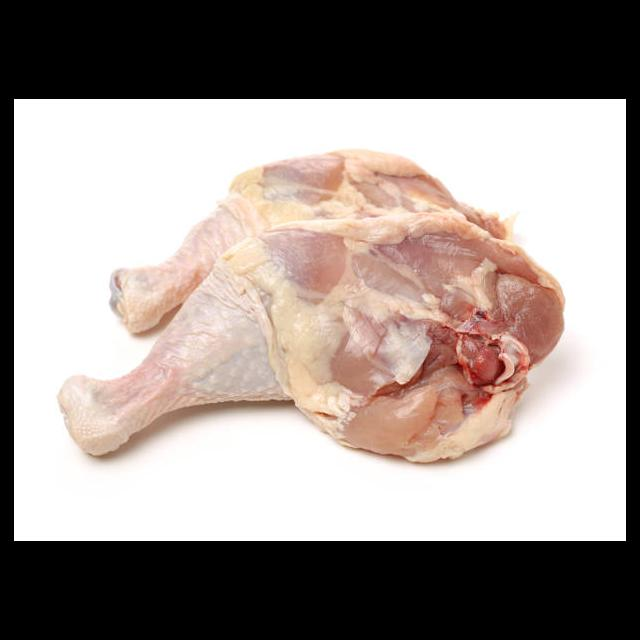chicken: (59, 209, 569, 467), (109, 149, 526, 334)
